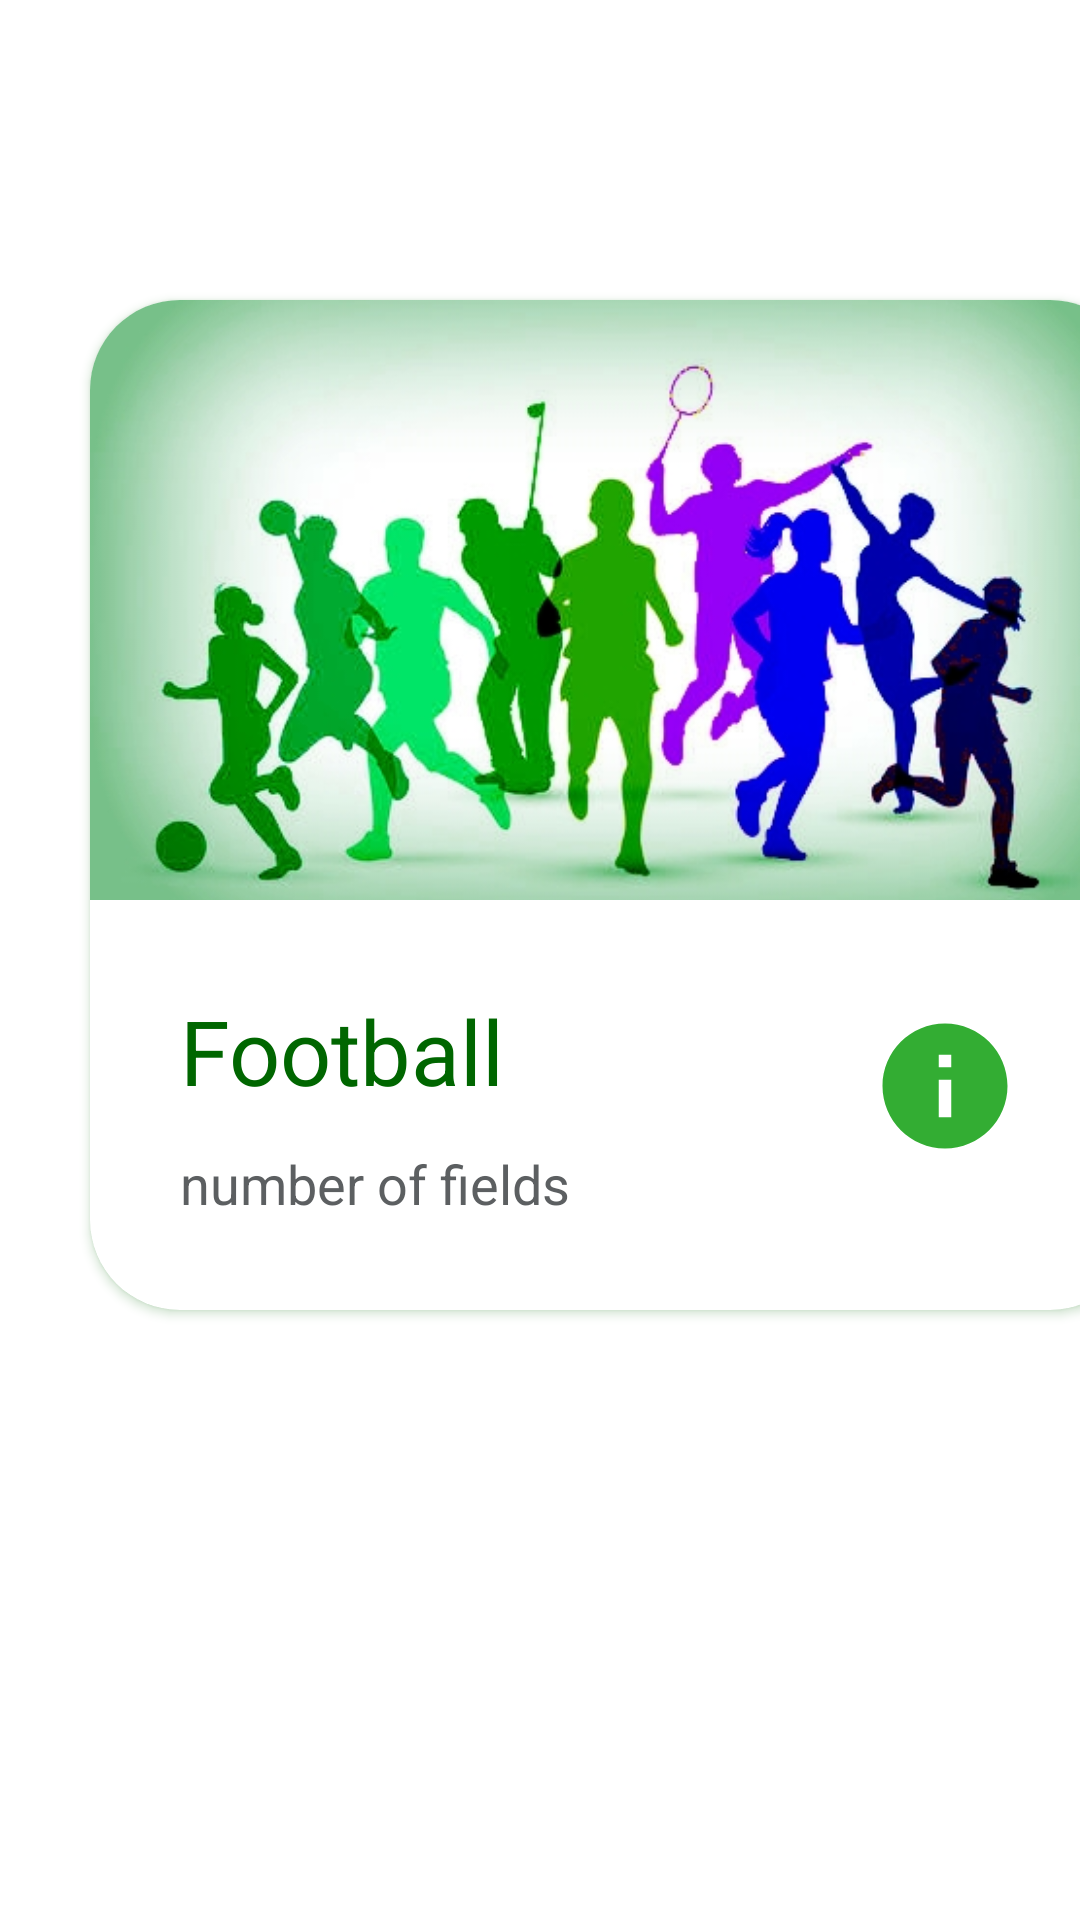

Screen size 1080 × 1920. Icon name, then its center in pixels as (x,y):
passinfo: (945,1086)
